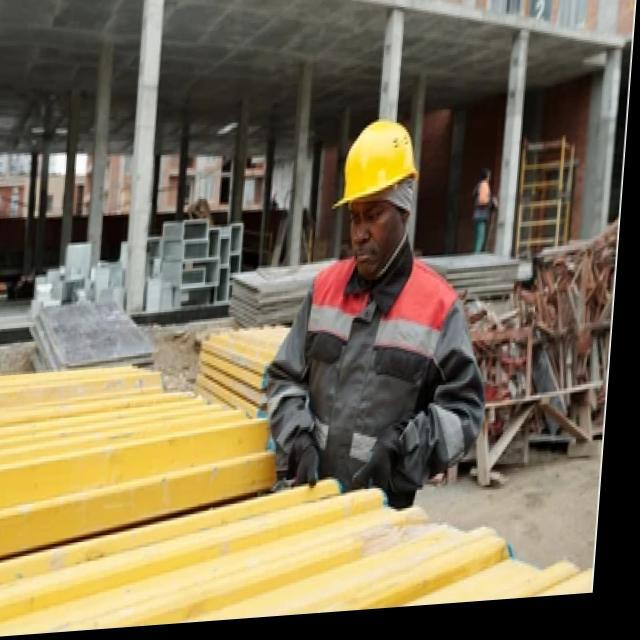helmet: (324, 112, 425, 278)
